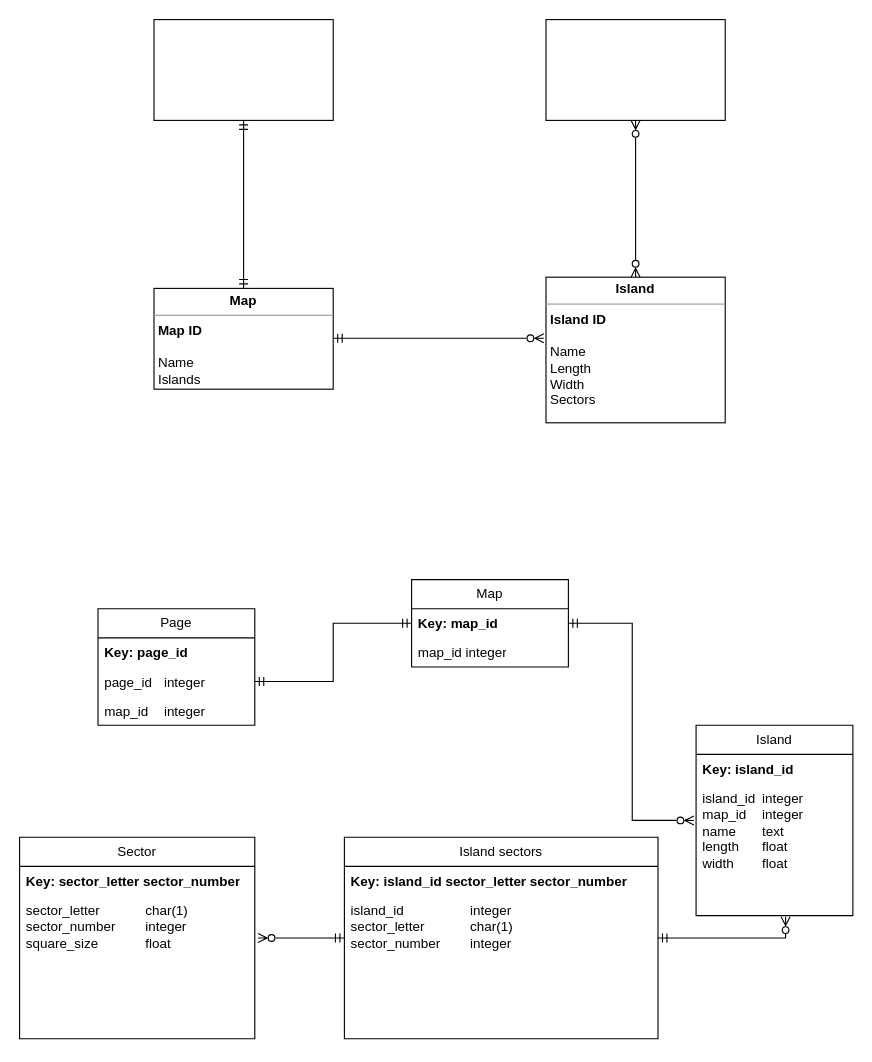
Image size: 872x1062. Some labels were removed from this diagram. The shapes that lost their labels are listed below. From the top down, each one's centre as x and y in pixels, then its label:
point 243,69: Page Page ID Page number Map
point 635,69: Sector Sector letter Sector number Square size
